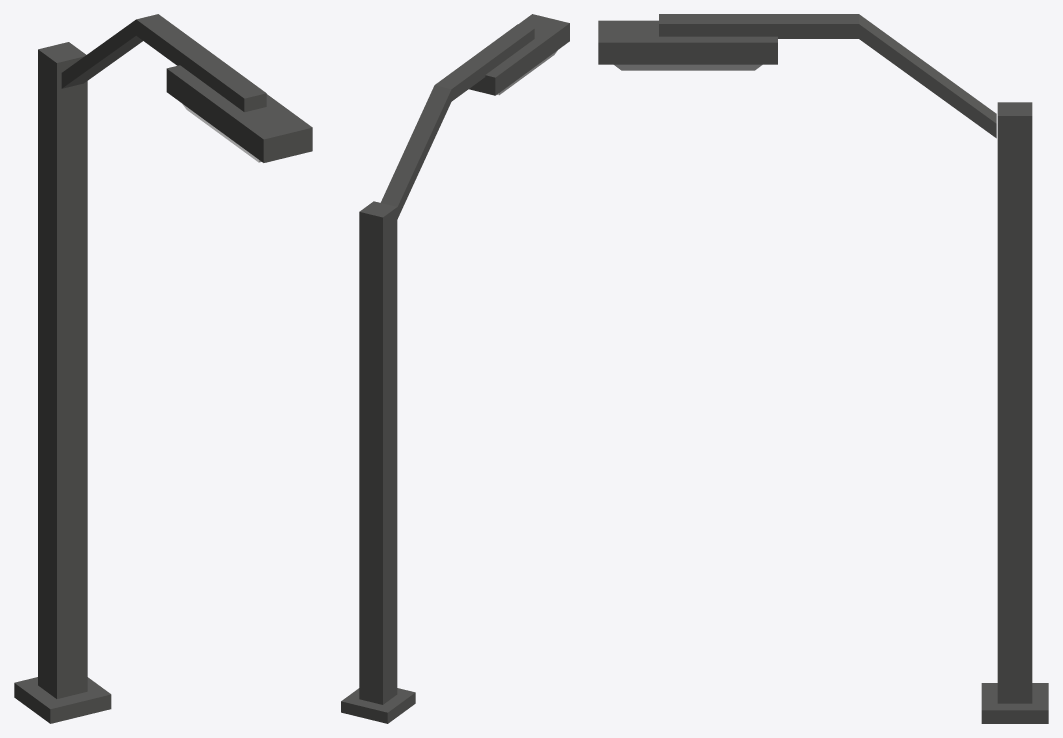
File: Lamp_1.fbx
3 renders of one model, left to right at view 1: azimuth 30°, elevation 25°; view 2: azimuth 150°, elevation 25°; view 3: azimuth 270°, elevation 25°, orthographic. The views are drawn at different scales.
Parts seen in each view (by area): view 1: Lamp_1; view 2: Lamp_1; view 3: Lamp_1.
Boxes of the visible parts, x1,y1,x2,y2 form: Lamp_1: [14, 14, 312, 723]; Lamp_1: [341, 14, 569, 723]; Lamp_1: [598, 14, 1048, 723].
Size of the model in its own units: 40.6 by 476 by 281.
